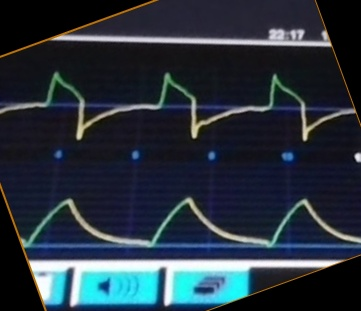Normal Flow: (2, 66, 355, 146)
Normal Volume: (24, 184, 359, 250)
